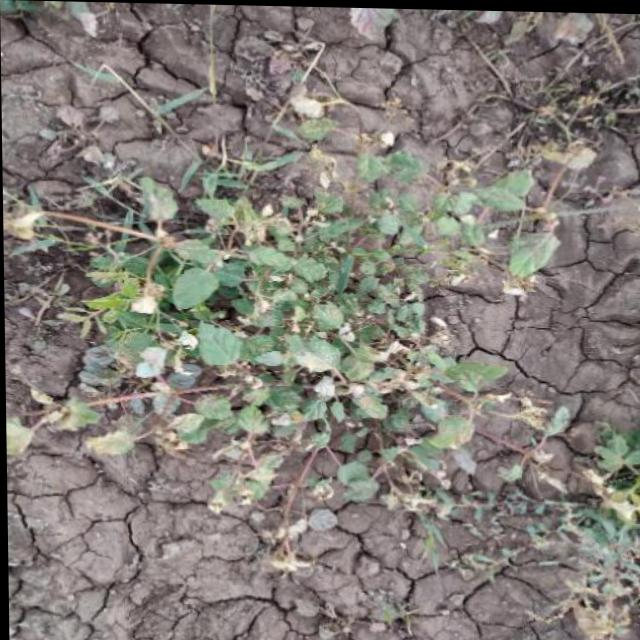weed: (44, 126, 514, 544)
